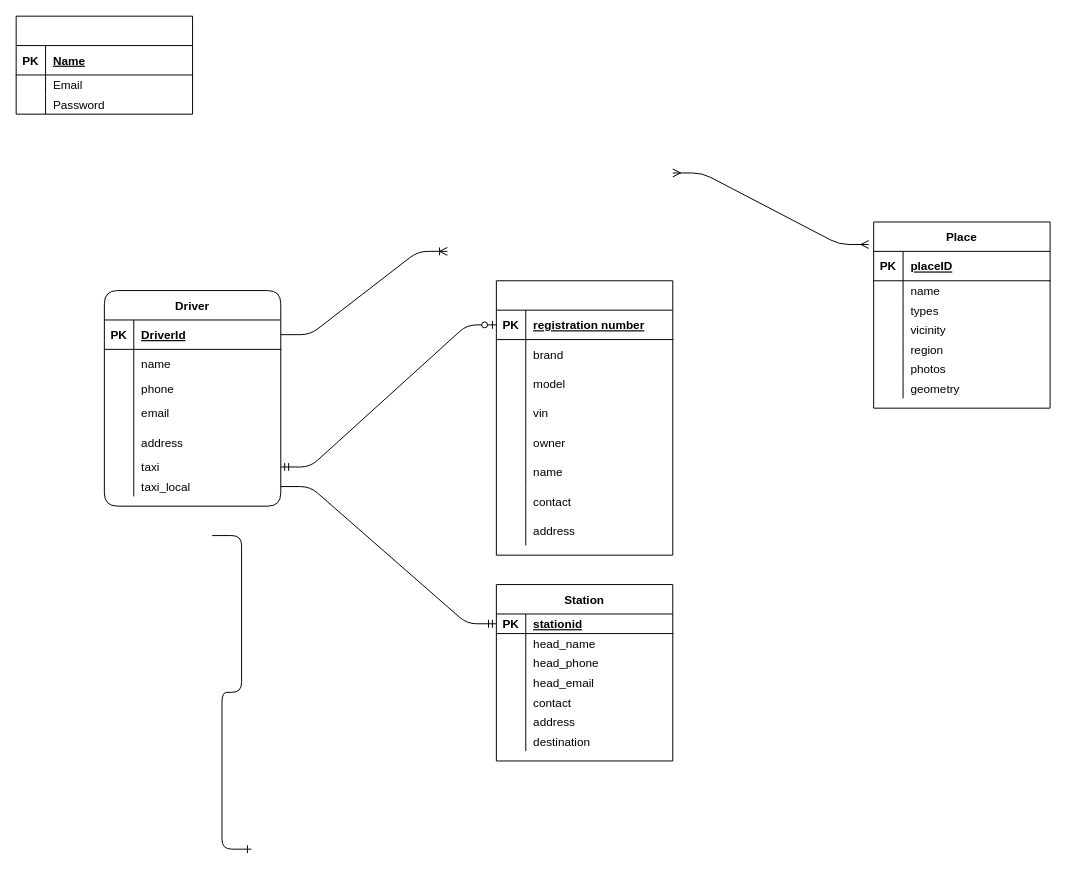
The diagram is 1066 pixels wide and 869 high, and some of its shapes have lost their labels. Here are the shapes that lost their labels. From the top down, the box of each, then its label:
(15, 15, 193, 114): Admin
(495, 280, 673, 555): Taxis
